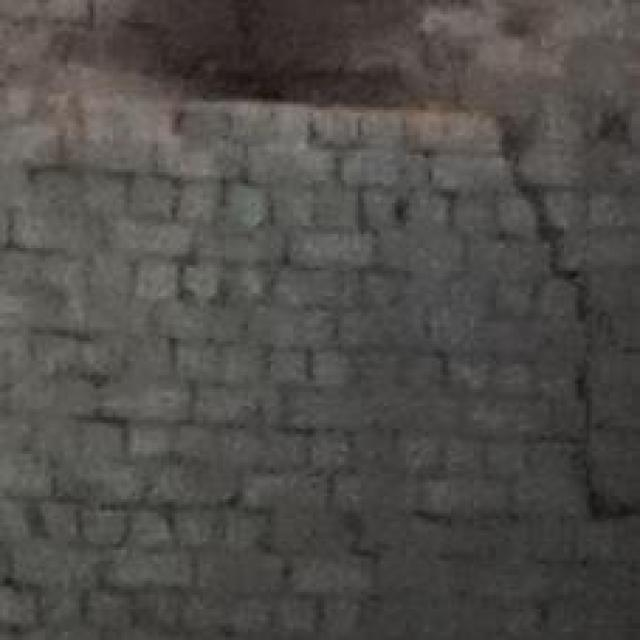Crack: (437, 70, 640, 547)
